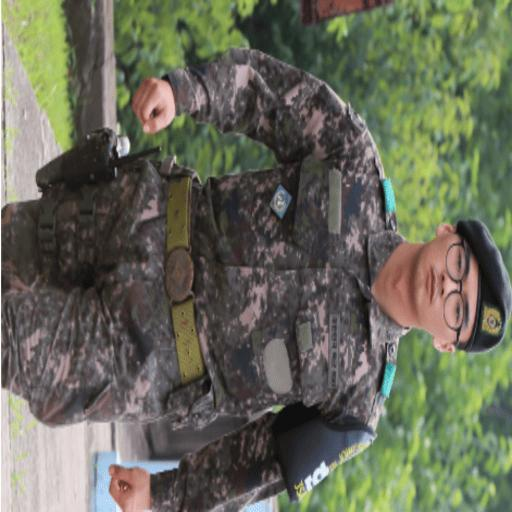korea army: (1, 66, 468, 482)
